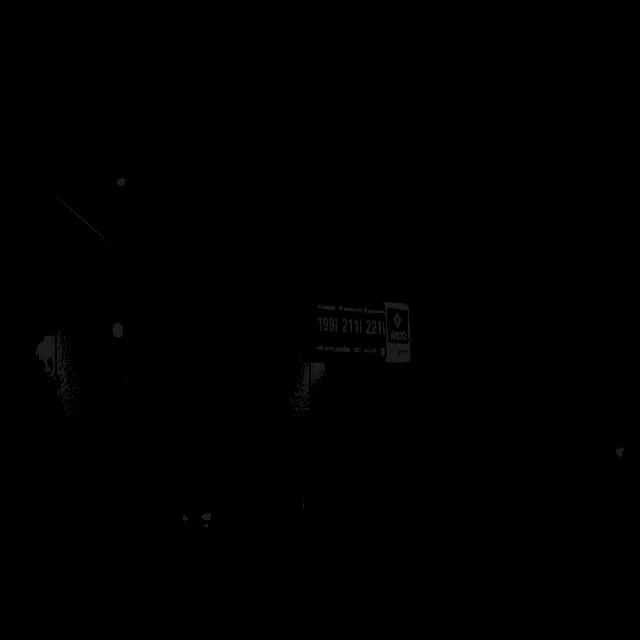Car: (0, 466, 132, 545), (185, 471, 292, 542)
